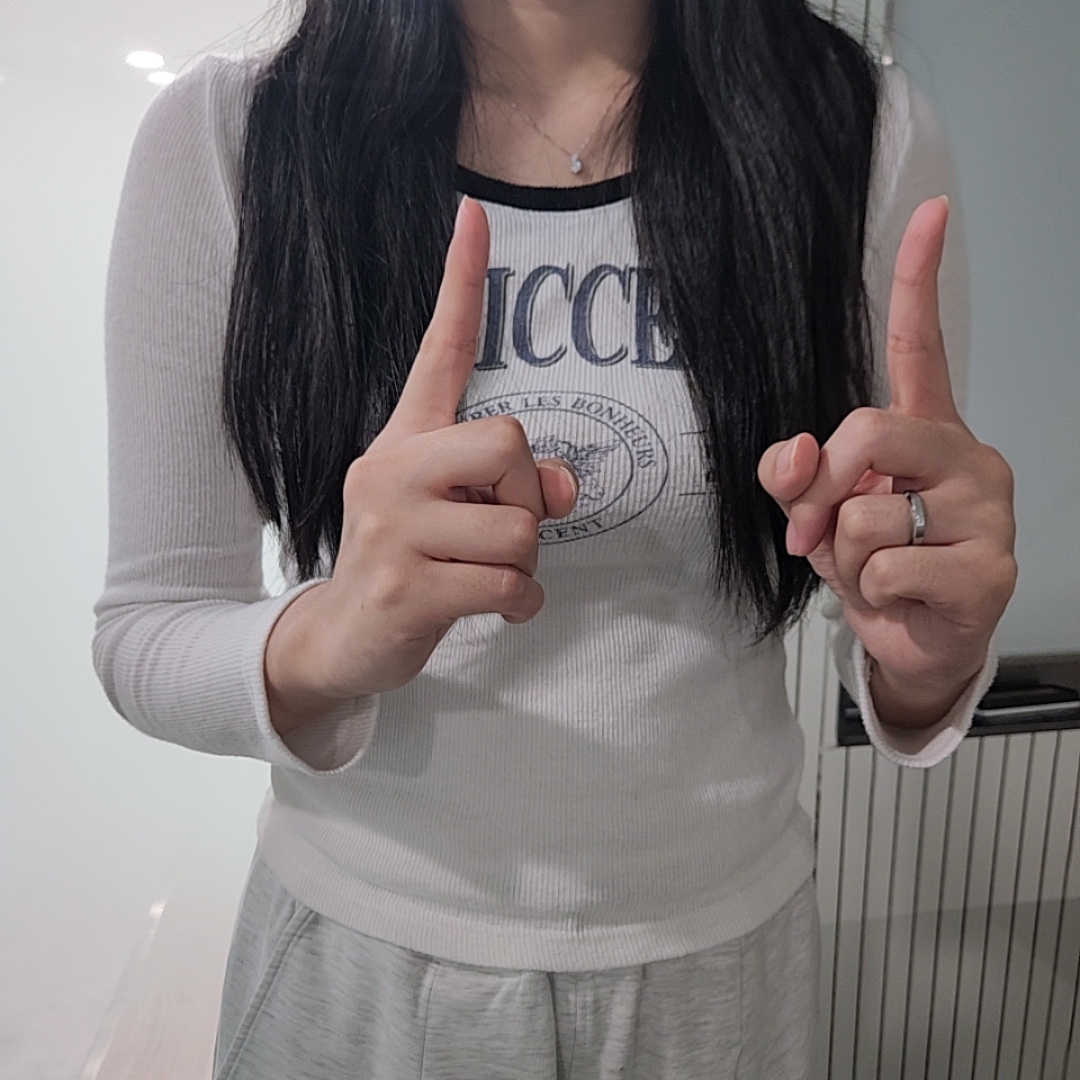meet: (333, 193, 1018, 697)
